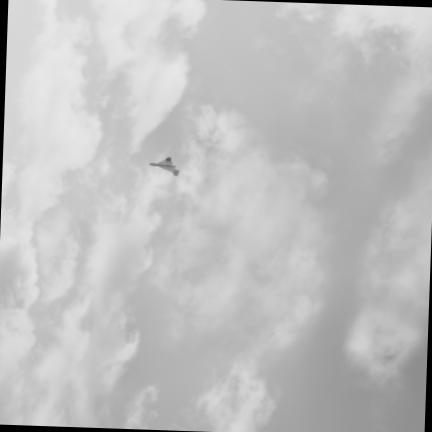Shahed: (150, 158, 178, 175)
